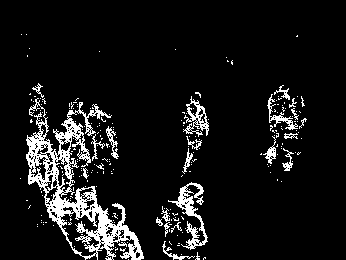person: (155, 183, 209, 260), (92, 202, 143, 260), (178, 91, 211, 178), (277, 93, 309, 174), (262, 84, 287, 165)
